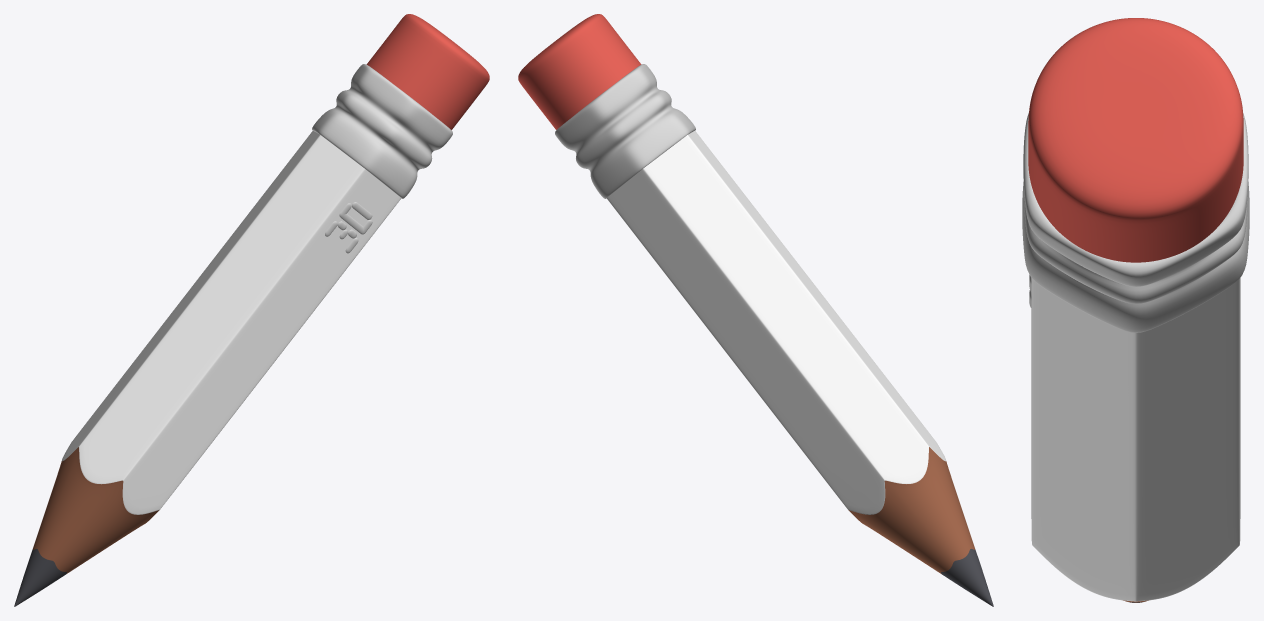
The model's file is pencil.glb.
3 renders of one model, left to right at view 1: azimuth 30°, elevation 25°; view 2: azimuth 150°, elevation 25°; view 3: azimuth 270°, elevation 25°, orthographic. The views are drawn at different scales.
Visible parts, largest first — view 1: Pencil; view 2: Pencil; view 3: Pencil.
Part boxes in pixels (x1,y1,x2,y2): Pencil: (14,14,489,606); Pencil: (518,14,993,606); Pencil: (1022,18,1249,602).
Size of the model in its own units: 1.82 by 1.82 by 0.384.
